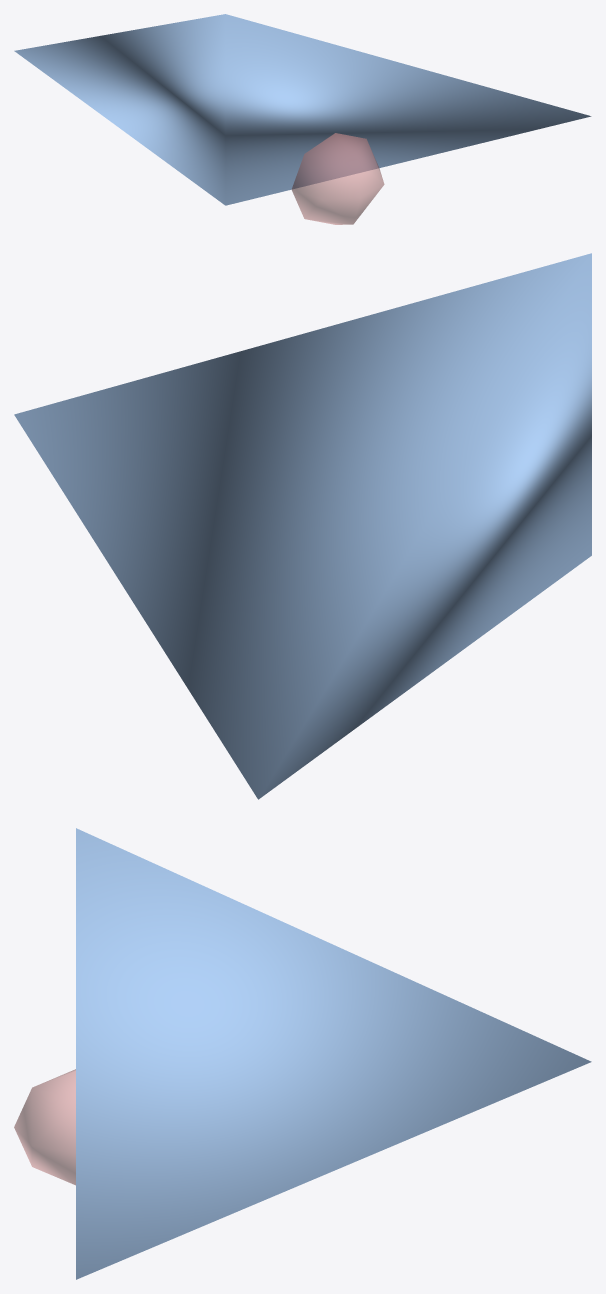
File: aliased-segments.glb
3 views of the same model, one above another, from view 1: azimuth 30°, elevation 25°; view 2: azimuth 150°, elevation 25°; view 3: azimuth 270°, elevation 25° (orthographic). The views are drawn at different scales.
Parts seen in each view (by area): view 1: Left lung mesh, Spleen mesh; view 2: Left lung mesh; view 3: Left lung mesh, Spleen mesh.
Boxes of the visible parts, <box> form: Left lung mesh: <box>14,14,591,205</box>; Spleen mesh: <box>291,133,384,224</box>; Left lung mesh: <box>14,253,591,799</box>; Left lung mesh: <box>76,828,591,1279</box>; Spleen mesh: <box>14,1069,75,1185</box>.
Size of the model in its own units: 0.1 by 0.062 by 0.112.
